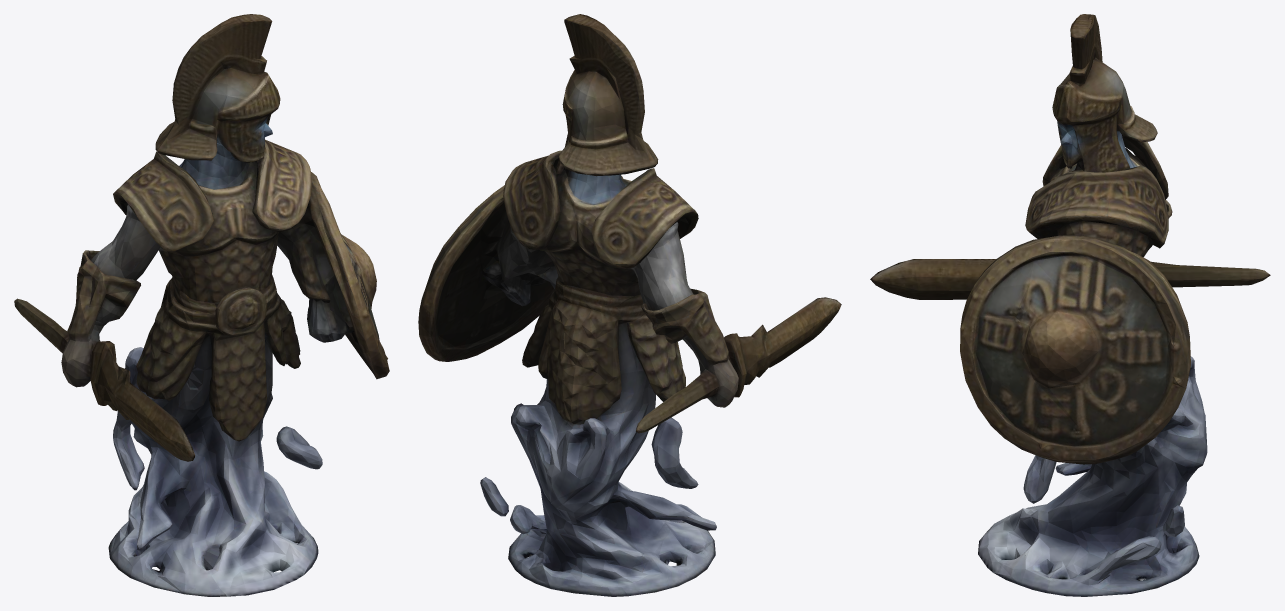
Rendered from ninthLegionShade.glb.
3 renders of one model, left to right at view 1: azimuth 30°, elevation 25°; view 2: azimuth 150°, elevation 25°; view 3: azimuth 270°, elevation 25°, orthographic. The views are drawn at different scales.
Parts seen in each view (by area): view 1: world; view 2: world; view 3: world.
Boxes of the visible parts, x1=… form: world: x1=14, y1=14, x2=389, y2=596; world: x1=418, y1=14, x2=841, y2=596; world: x1=870, y1=14, x2=1270, y2=596.
Size of the model in its own units: 0.5893 by 0.997 by 0.6649.
1 material, 1 textured.
